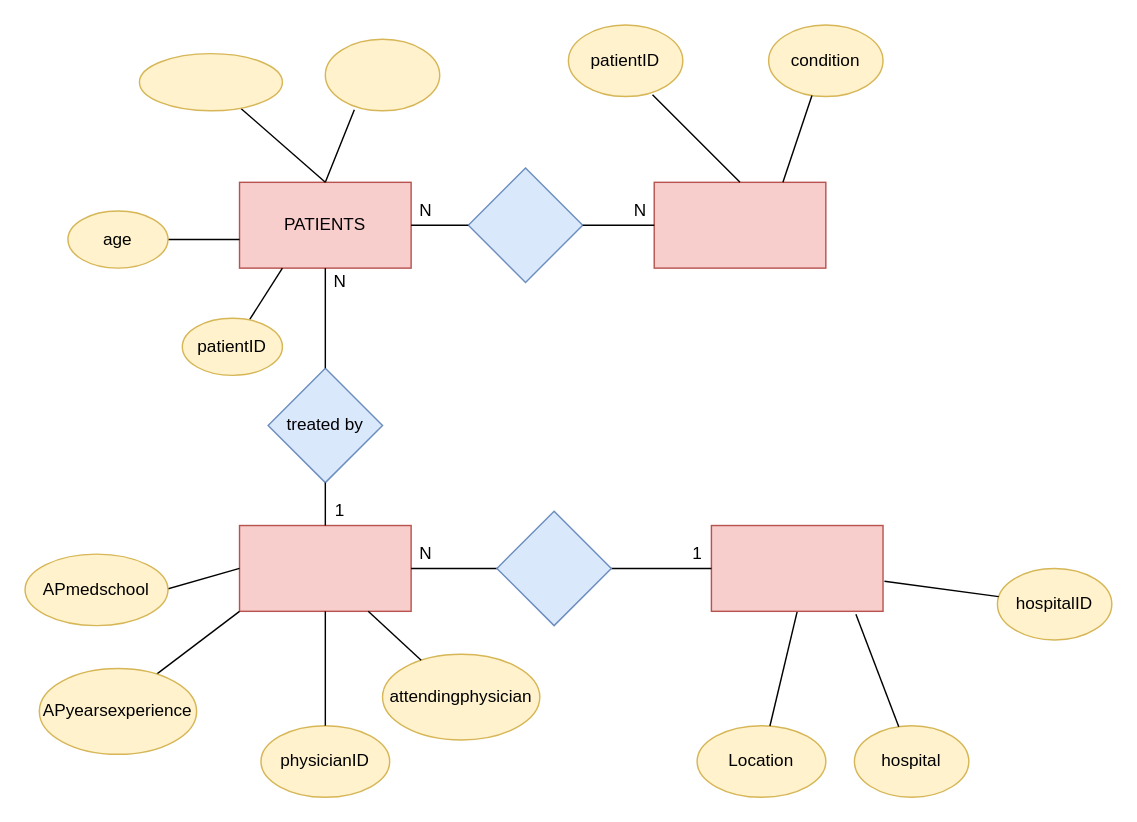
Some shapes in this 1137 by 822 pixel diagram are drawn without their labels. The centre of each missing label's shape, as x and y in pixels:
"CONDITIONS" goes at pixel 739 224.
"dateofbirth" goes at pixel 210 81.
"diagnose with" goes at pixel 525 224.
"HOSPITALS" goes at pixel 796 567.
"PHYSICIANS" goes at pixel 324 567.
"sex" goes at pixel 382 74.
"work" goes at pixel 553 568.
